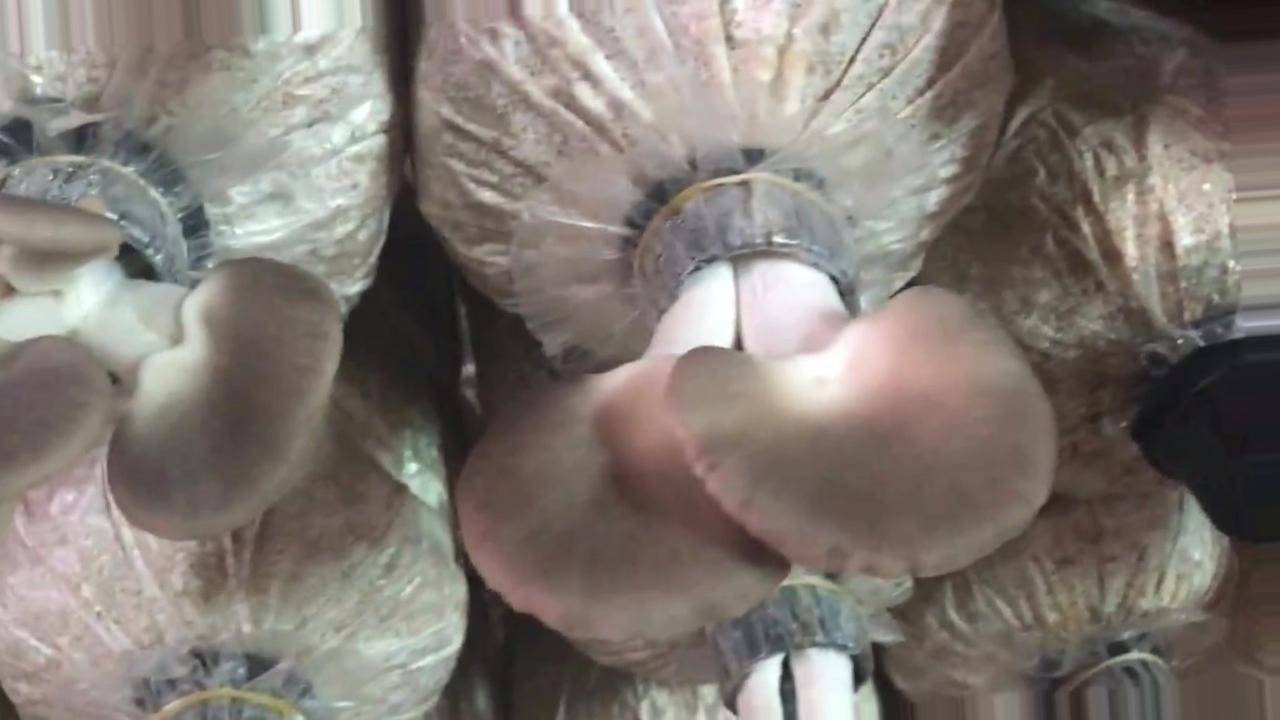nam: (455, 178, 1063, 649), (1, 137, 353, 537)
